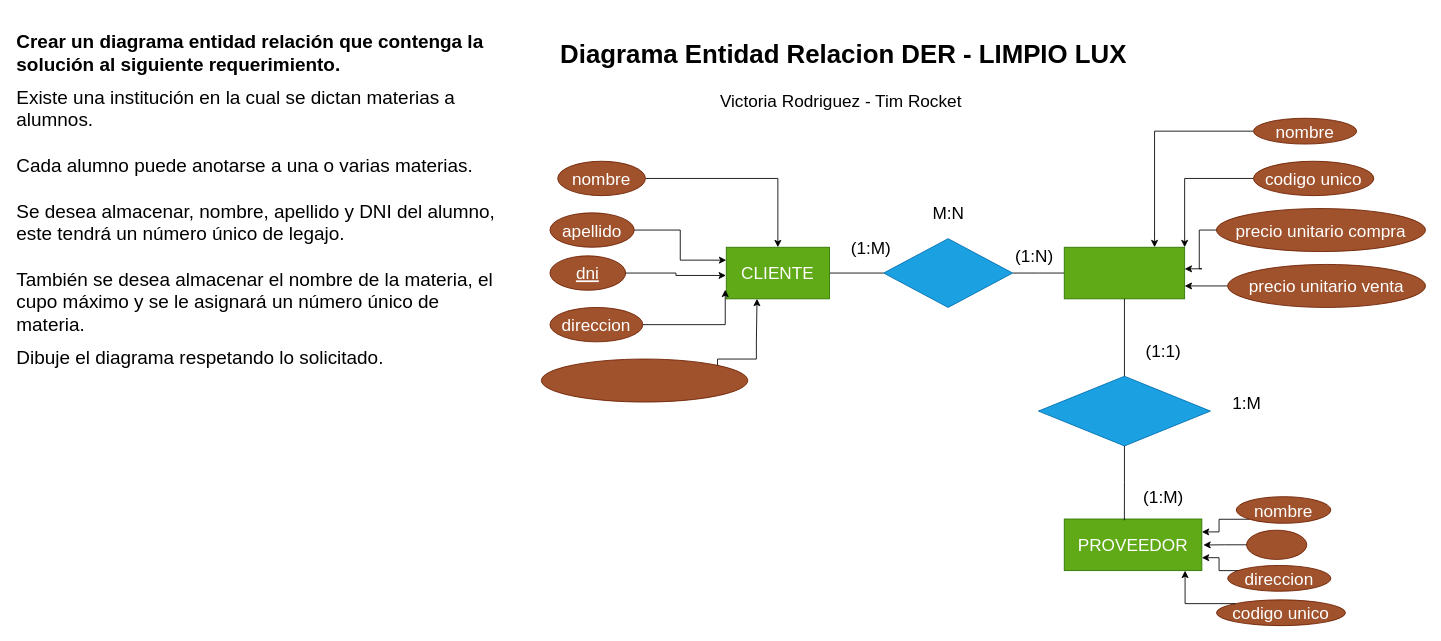
Image size: 1441x641. Some labels were removed from this diagram. Here are the shapes that lost their labels. From the top down, the centre of each, then its label:
At [948,272]: "COMPRA".
At [1124,272]: "PRODUCTO".
At [644,380]: "fecha de nacimiento".
At [1124,410]: "SUMINISTRA".
At [1276,544]: "CUIT".
